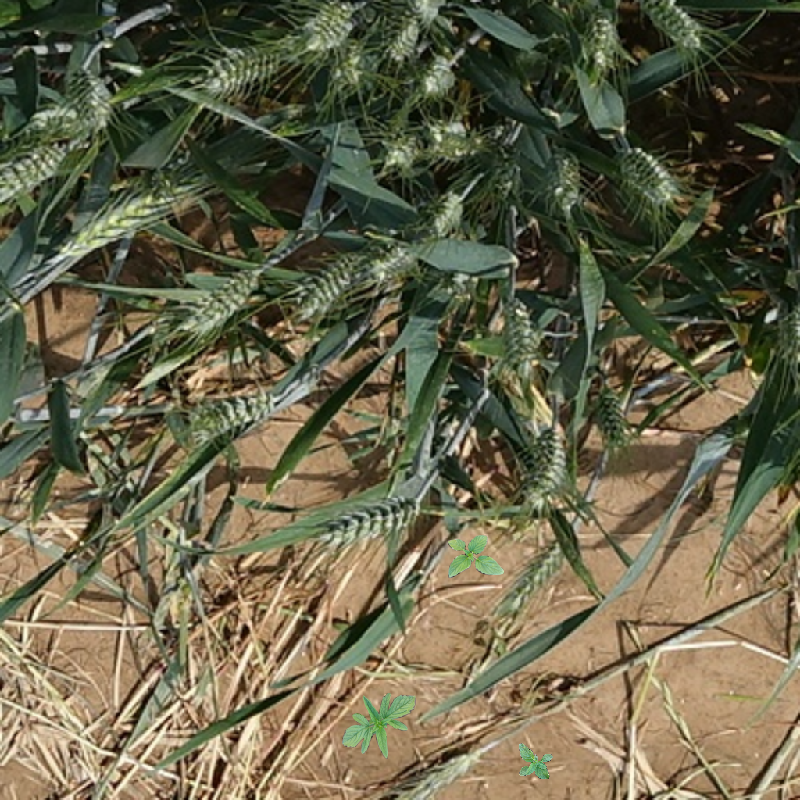spikelet: (61, 160, 227, 259), (0, 121, 79, 206), (312, 495, 419, 551), (174, 267, 259, 332), (500, 538, 566, 616), (182, 390, 271, 442), (390, 748, 478, 799), (296, 250, 361, 318), (518, 426, 565, 515), (205, 42, 282, 96), (615, 145, 675, 205), (637, 0, 702, 52), (66, 65, 114, 133), (299, 0, 359, 50), (496, 296, 537, 369), (421, 117, 482, 163), (579, 7, 620, 74), (364, 243, 419, 286), (542, 148, 580, 209), (596, 385, 632, 448), (417, 50, 457, 100), (772, 300, 799, 370), (425, 190, 463, 238), (329, 40, 367, 86), (489, 151, 515, 210), (409, 0, 452, 35), (382, 132, 417, 175), (387, 18, 418, 64)
weed: (342, 693, 416, 759), (448, 535, 504, 578), (513, 742, 555, 781)
